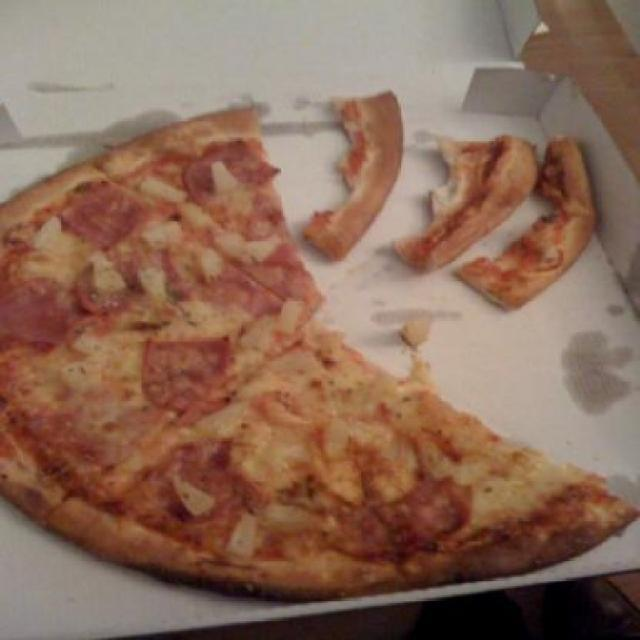Pizza: (14, 114, 612, 594)
